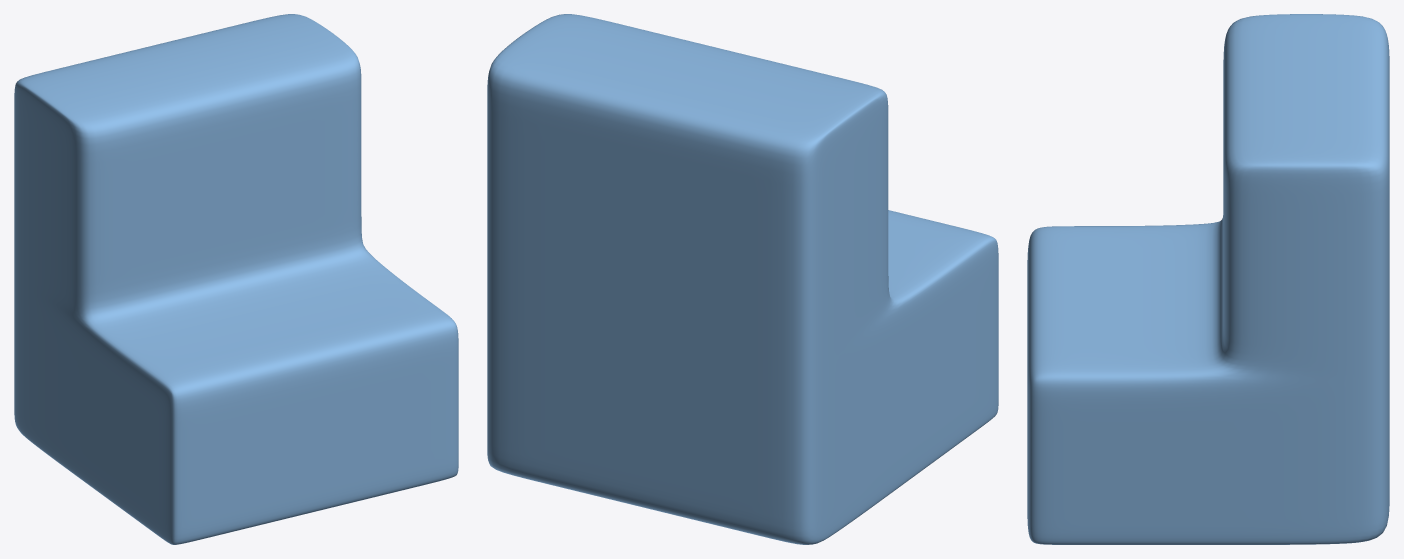
File: asiento.fbx
3 views of the same model, side by side, from view 1: azimuth 30°, elevation 25°; view 2: azimuth 150°, elevation 25°; view 3: azimuth 270°, elevation 25° (orthographic). The views are drawn at different scales.
Parts seen in each view (by area): view 1: Cube.002; view 2: Cube.002; view 3: Cube.002.
Part boxes in pixels (box(x1,y1,x2,y2)): Cube.002: box(14, 14, 458, 544); Cube.002: box(487, 14, 998, 544); Cube.002: box(1027, 14, 1389, 544).
Bounding box in the file's own units: 200 × 233 × 200.
